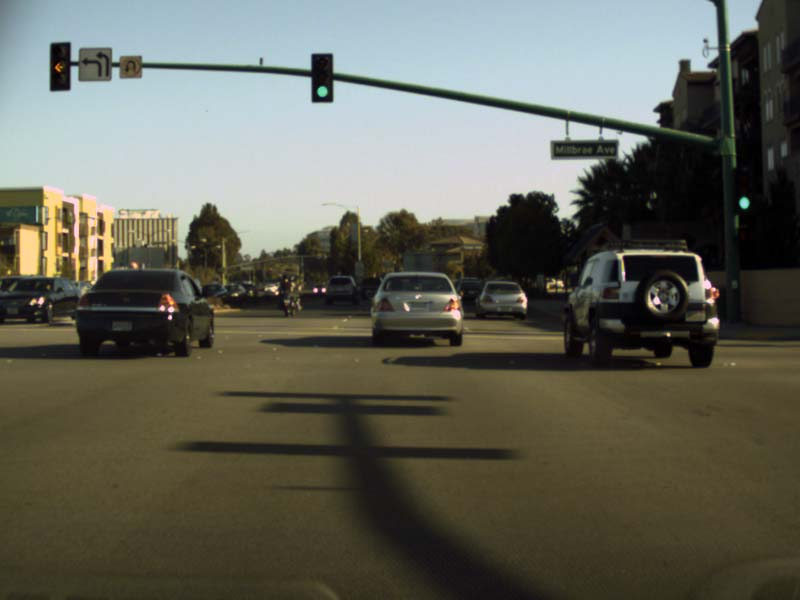Green: (311, 53, 332, 100), (732, 167, 753, 213)
Yellow: (49, 43, 69, 89)
